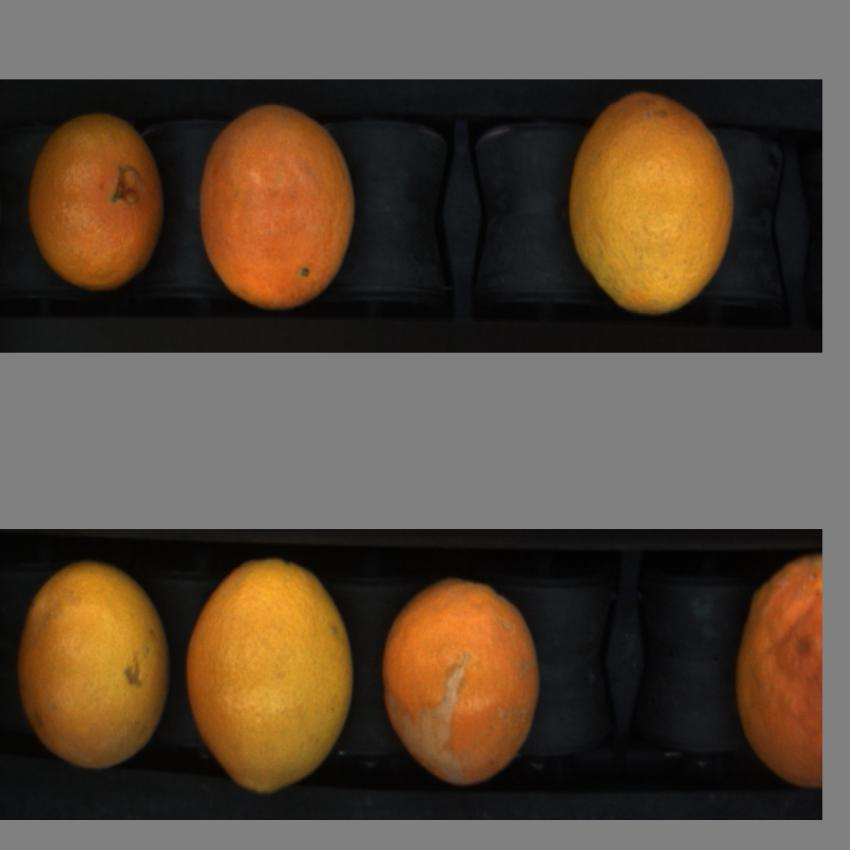Buen estado: (184, 555, 356, 795), (563, 87, 737, 314), (377, 578, 550, 786), (18, 557, 171, 771), (24, 106, 168, 296)
Mal estado: (197, 101, 358, 310), (732, 539, 824, 795)
